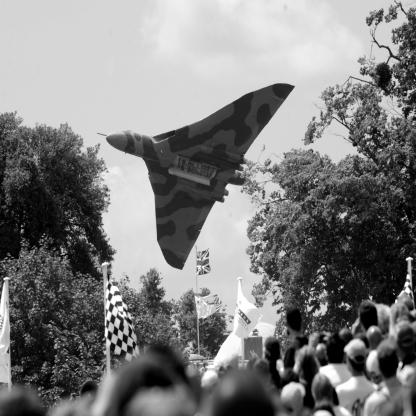Vulcan: (98, 84, 296, 271)
